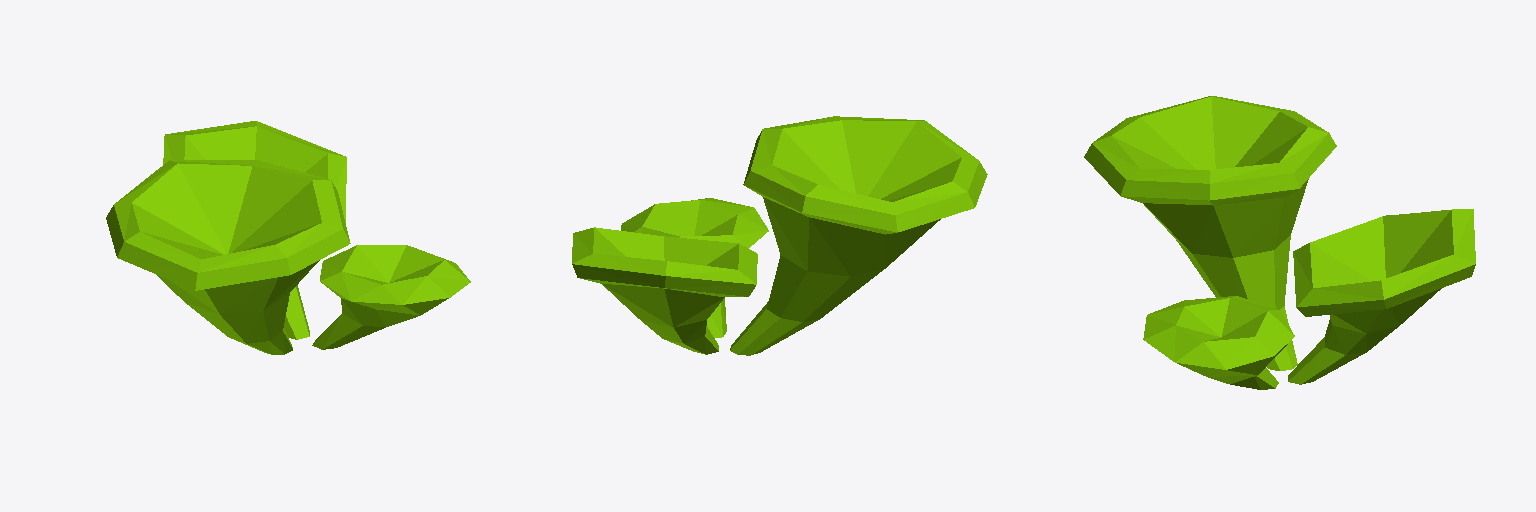
The model's file is fabulous_mushroom_004.obj.
The picture shows the model from 3 angles: view 1: azimuth 30°, elevation 25°; view 2: azimuth 150°, elevation 25°; view 3: azimuth 270°, elevation 25°; orthographic projection.
Visible parts, largest first — view 1: fabulous_mushroom_004; view 2: fabulous_mushroom_004; view 3: fabulous_mushroom_004.
Boxes of the visible parts, <box> form: fabulous_mushroom_004: <box>106,121,470,354</box>; fabulous_mushroom_004: <box>572,116,987,355</box>; fabulous_mushroom_004: <box>1084,96,1475,389</box>.
Size of the model in its own units: 2.16 by 1.16 by 2.12.